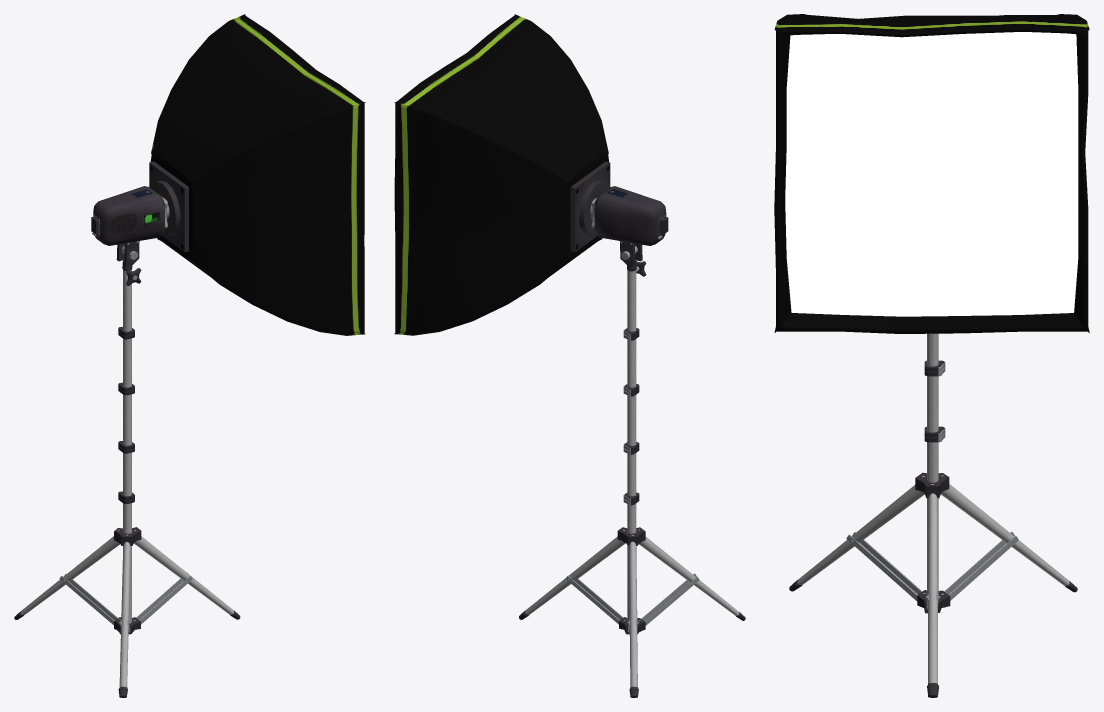
Rendered from studio_softbox_light.glb.
3 renders of one model, left to right at view 1: azimuth 30°, elevation 25°; view 2: azimuth 150°, elevation 25°; view 3: azimuth 270°, elevation 25°, orthographic. The views are drawn at different scales.
Parts seen in each view (by area): view 1: Cube; view 2: Cube; view 3: Cube.
Part boxes in pixels (x1,y1,x2,y2): Cube: (14,14,365,697); Cube: (394,14,745,697); Cube: (774,14,1089,697).
Bounding box in the file's own units: 623 × 1354 × 542.
1 material, 1 textured.
